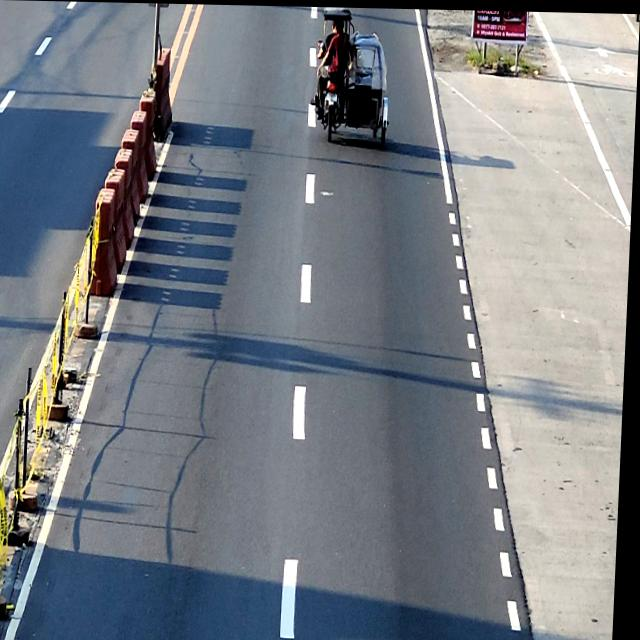License-Plate: (327, 91, 339, 99)
Tricycle: (316, 6, 393, 147)
